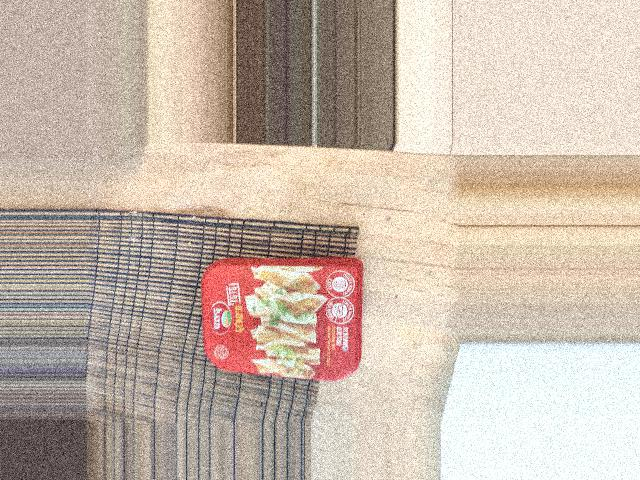cheese: (127, 247, 242, 457)
